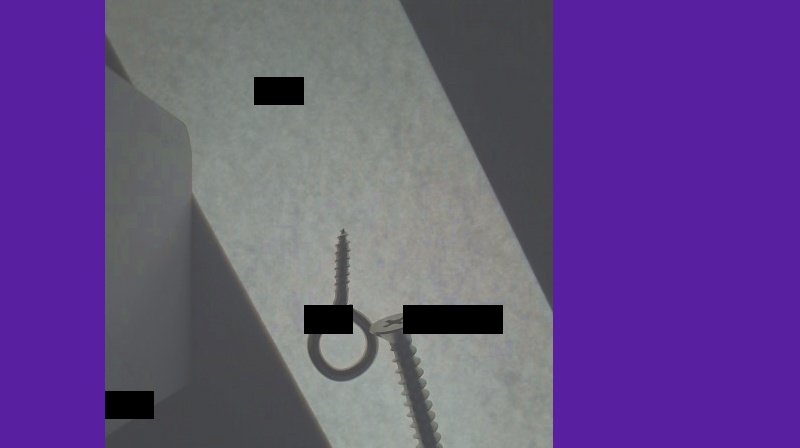O001: (303, 226, 379, 385)
S001: (368, 310, 443, 447)
